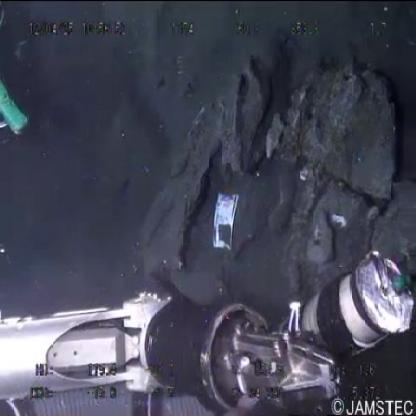Rov: (1, 247, 415, 412)
Rác: (211, 188, 241, 256)
